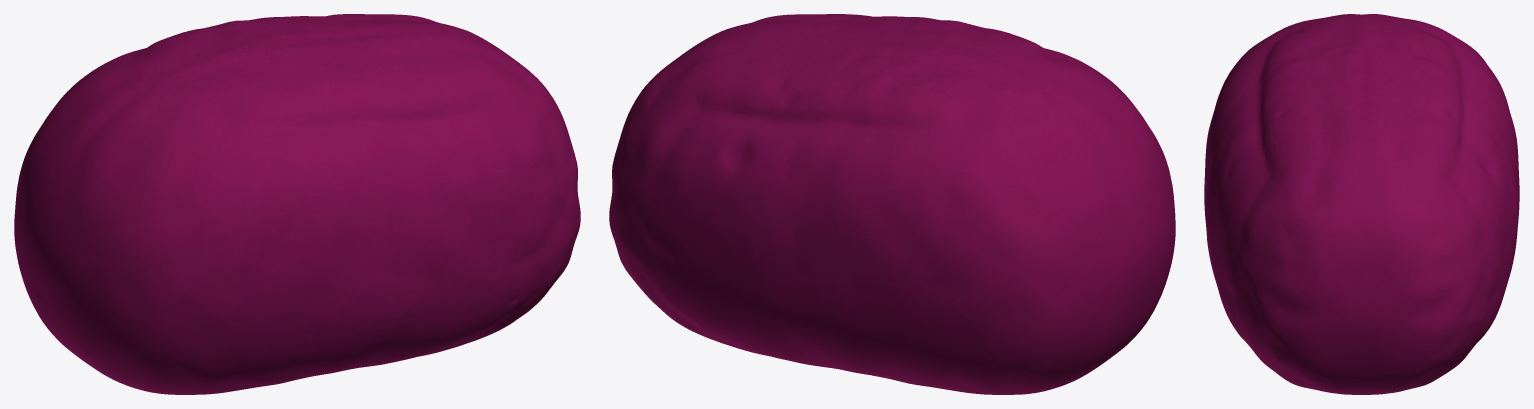
File: sweeper_segment.glb
3 renders of one model, left to right at view 1: azimuth 30°, elevation 25°; view 2: azimuth 150°, elevation 25°; view 3: azimuth 270°, elevation 25°, orthographic. The views are drawn at different scales.
Bounding box in the file's own units: 1.9 × 1.13 × 1.23.
Materials: 1 (1 with a texture image).
